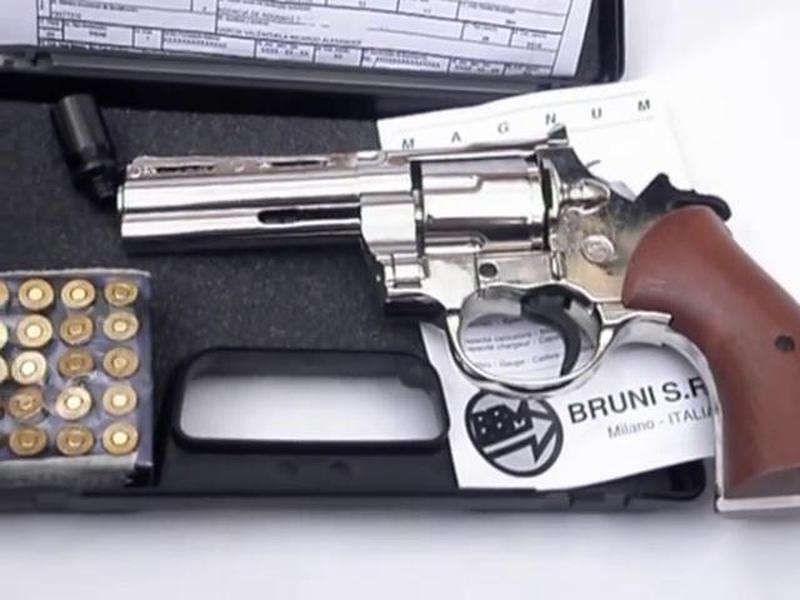Revolver: (117, 134, 800, 433)
